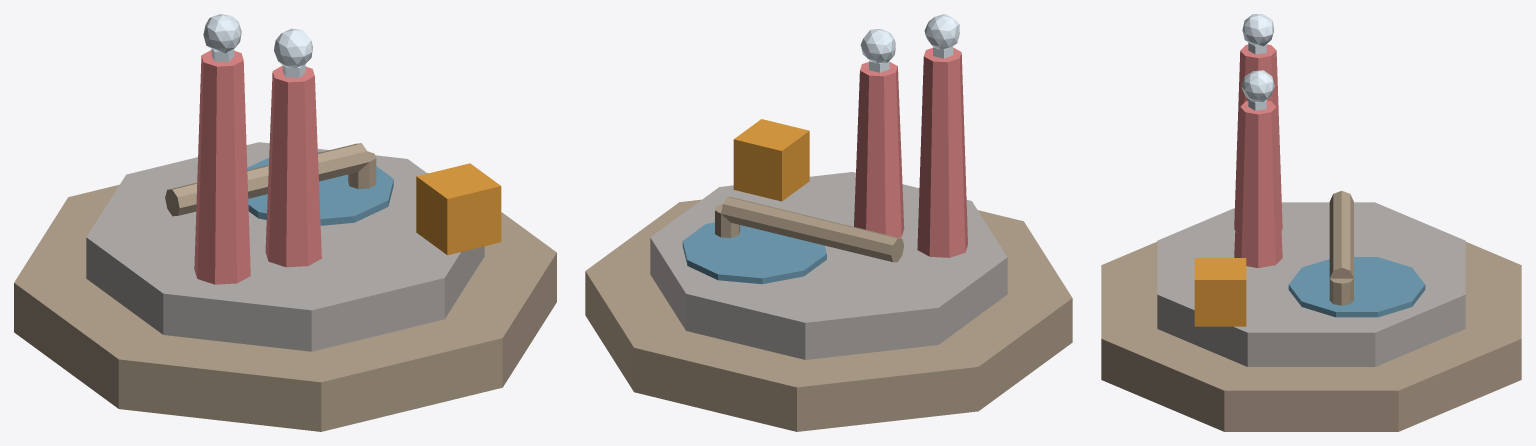
The model's file is slag-mesa.glb.
The picture shows the model from 3 angles, left to right: view 1: azimuth 30°, elevation 25°; view 2: azimuth 150°, elevation 25°; view 3: azimuth 270°, elevation 25°; orthographic projection. The views are drawn at different scales.
Parts seen in each view (by area): view 1: factory-slag-mesa; view 2: factory-slag-mesa; view 3: factory-slag-mesa.
Part boxes in pixels (x1,y1,x2,y2): factory-slag-mesa: [14, 14, 556, 431]; factory-slag-mesa: [585, 14, 1072, 431]; factory-slag-mesa: [1101, 14, 1521, 431].
Size of the model in its own units: 2.77 by 2.11 by 2.77.
